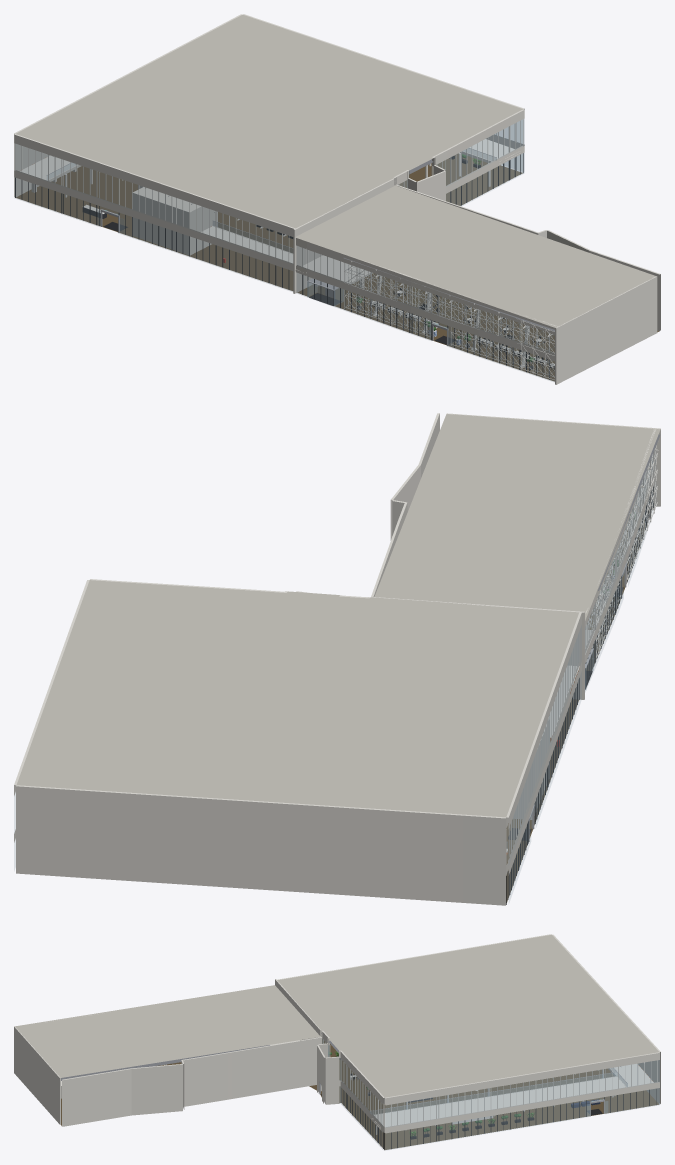
File: NovaHall.fbx
The picture shows the model from 3 angles, top to bottom: view 1: azimuth 30°, elevation 25°; view 2: azimuth 150°, elevation 25°; view 3: azimuth 270°, elevation 25°; orthographic projection. The views are drawn at different scales.
Parts seen in each view (by area): view 1: Hall_Roof, Hall_Shell, Hall_Structure, Hall_Furniture; view 2: Hall_Roof, Hall_Shell, Hall_Structure; view 3: Hall_Roof, Hall_Shell, Hall_Structure, Hall_Furniture.
Part boxes in pixels (left/top/right/bottom): Hall_Roof: left=16, top=14, right=655, bottom=380; Hall_Shell: left=14, top=14, right=660, bottom=381; Hall_Structure: left=20, top=139, right=657, bottom=384; Hall_Furniture: left=82, top=154, right=554, bottom=370; Hall_Roof: left=16, top=414, right=660, bottom=817; Hall_Shell: left=14, top=413, right=656, bottom=905; Hall_Structure: left=373, top=413, right=660, bottom=854; Hall_Roof: left=15, top=934, right=659, bottom=1097; Hall_Shell: left=45, top=934, right=660, bottom=1150; Hall_Structure: left=14, top=979, right=653, bottom=1134; Hall_Furniture: left=328, top=1051, right=600, bottom=1139.
Bounding box in the file's own units: 89.24 × 13.41 × 149.
